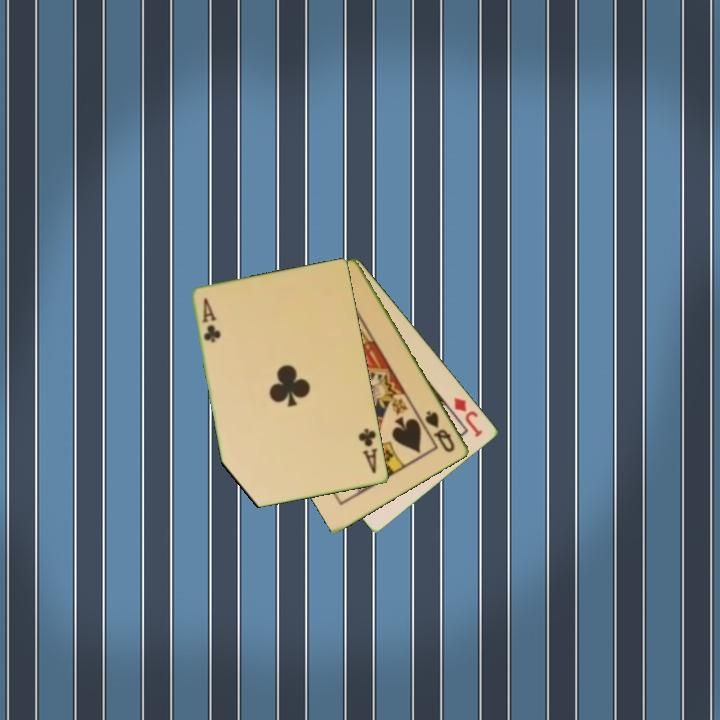Ac: (355, 425, 381, 477), (199, 295, 224, 346)
Jd: (450, 394, 486, 440)
Qs: (422, 407, 458, 456)
